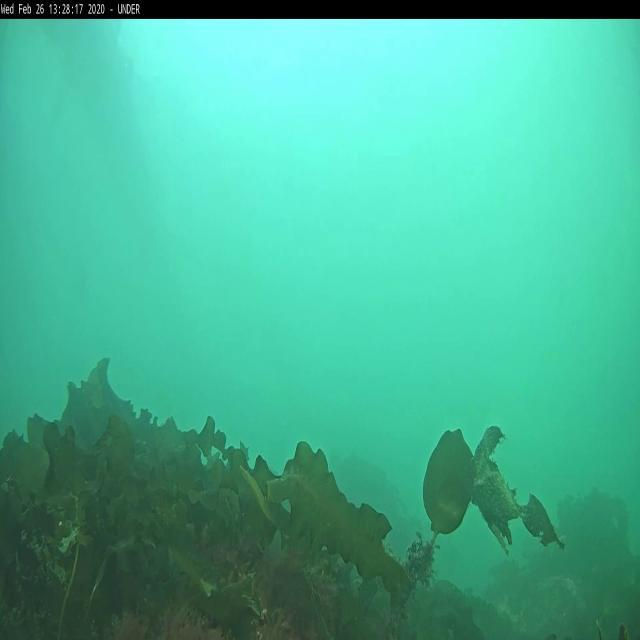fish: (239, 468, 275, 518)
